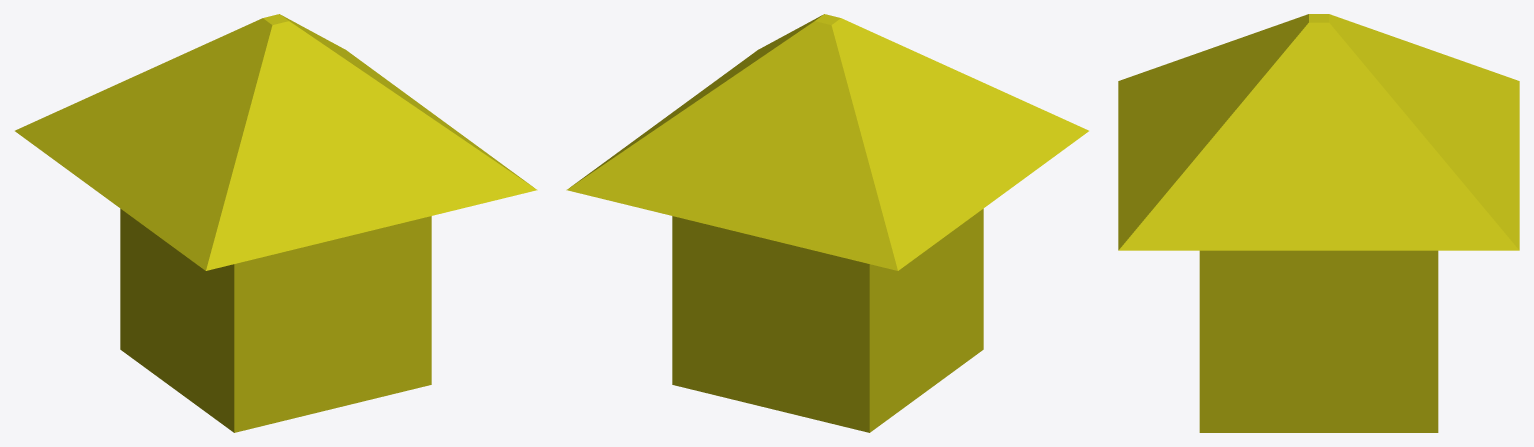
Rendered from maison.obj.
The picture shows the model from 3 angles, left to right: view 1: azimuth 30°, elevation 25°; view 2: azimuth 150°, elevation 25°; view 3: azimuth 270°, elevation 25°; orthographic projection. The views are drawn at different scales.
Visible parts, largest first — view 1: Cube; view 2: Cube; view 3: Cube.
Part boxes in pixels (box(x1,y1,x2,y2)): Cube: box(15, 14, 537, 432); Cube: box(566, 14, 1088, 432); Cube: box(1118, 14, 1519, 432).
Size of the model in its own units: 3.36 by 3.36 by 3.36.
